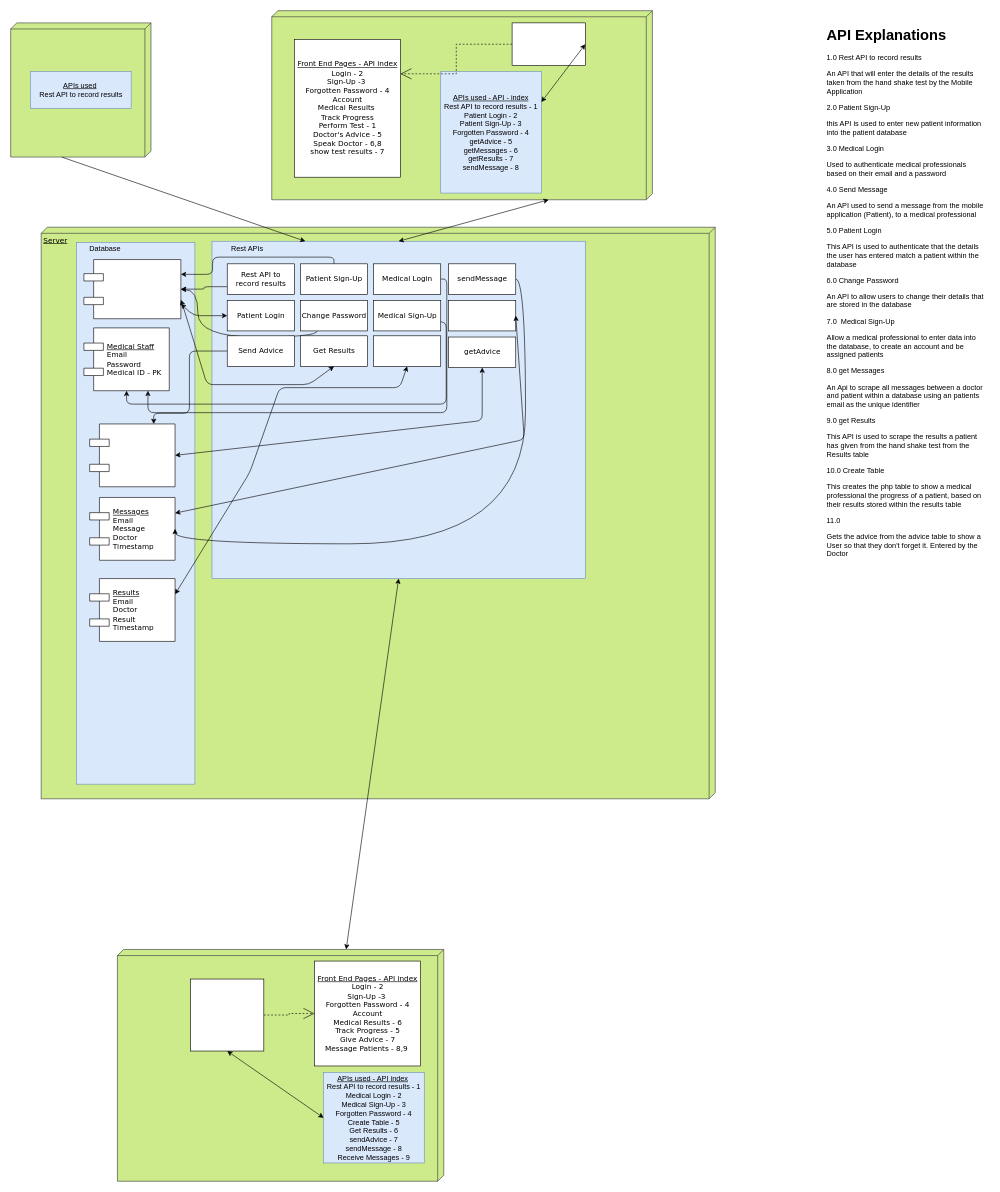
This 1000x1192 diagram has some shape labels left out. Each missing label, with the box of its shape:
Advice Email Advice Doctor Timestamp: (89, 423, 175, 487)
Android Application: (271, 10, 652, 200)
Backend Android App: (511, 22, 585, 66)
Backend Medical Website Application: (190, 978, 264, 1051)
Create Table: (373, 335, 441, 366)
getMessages: (448, 300, 516, 331)
IoT Device: (10, 22, 151, 157)
Patient Data Email Password Patient Data(JSON) Medical ID - FK: (83, 259, 181, 319)
Web App: (117, 949, 444, 1181)
